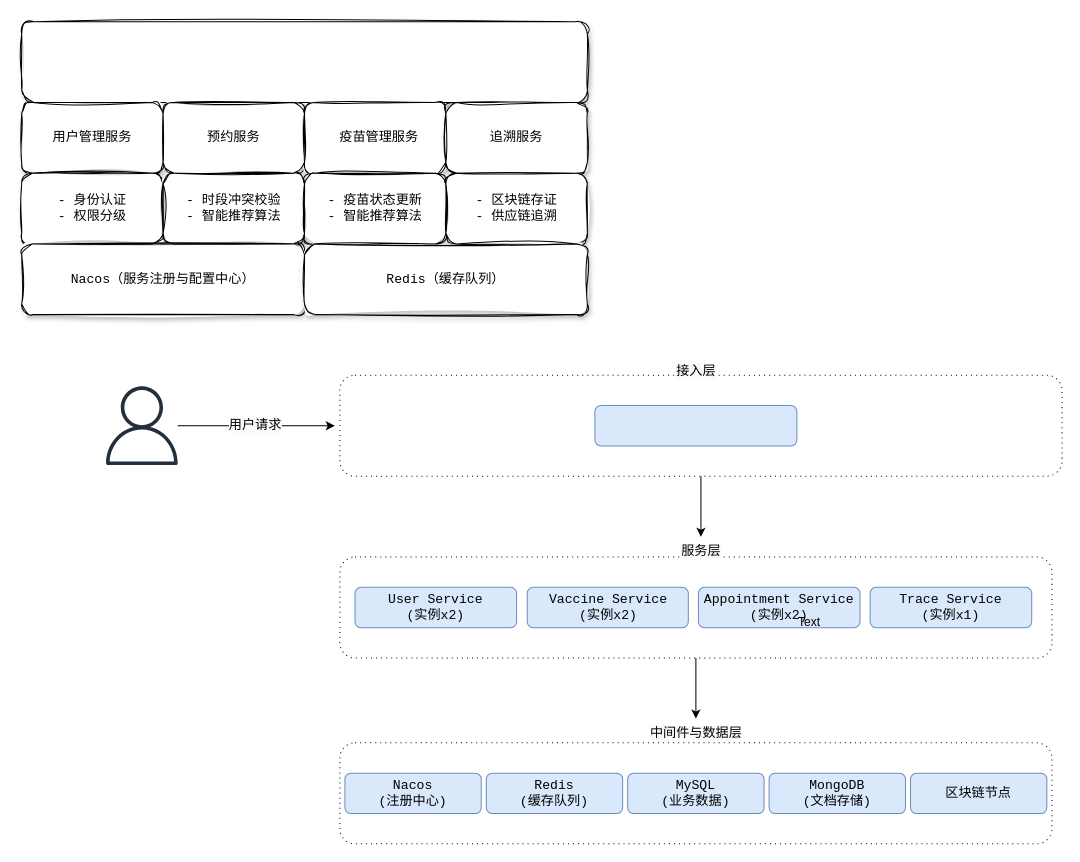
This 1080x862 diagram has some shape labels left out. Each missing label, with the centre of its shape:
"API 网关 (Spring Cloud Gateway)" goes at [695,425].
"API网关（Spring Cloud Gateway）" goes at [305,63].
"小程序/Web/管理端" goes at [141,425].
